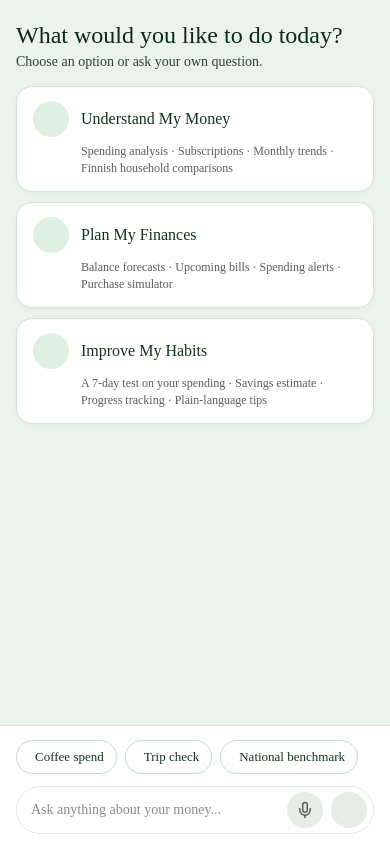
Scenario: chat › a second 401 shows the error instead of looping
This screenshot has width=390, height=844.
Type "hi" into the field named "Message". click: (155, 810)
box: [31,790,279,830]
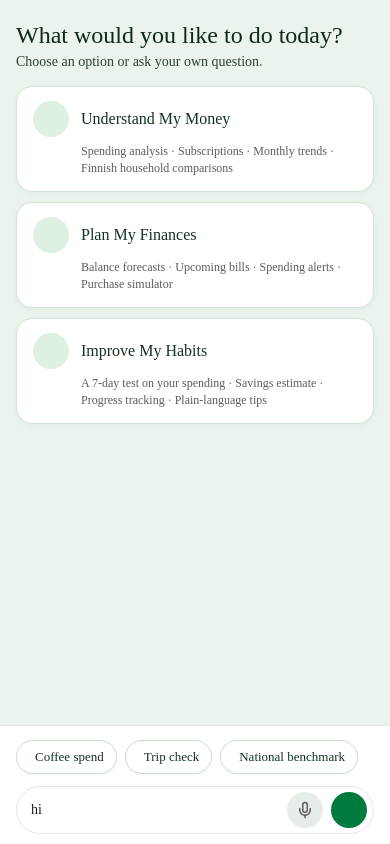
Click the button named "Send". click: (349, 810)
box: [331,792,367,828]
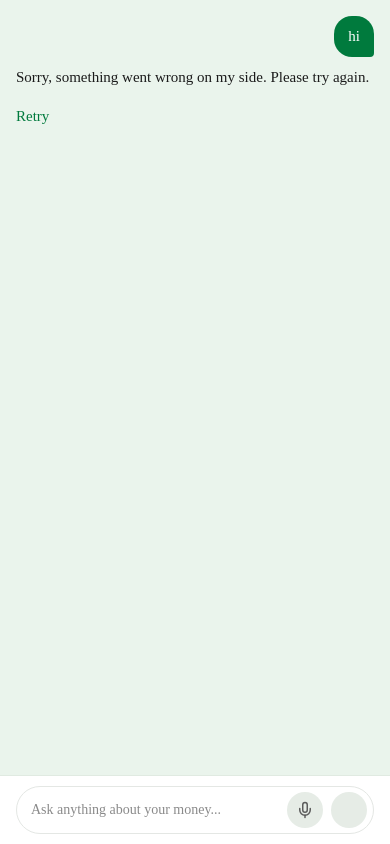
expect the text "Sorry, something went wrong on my side. Please try again." is shown: met, box [16,69,374,86]
